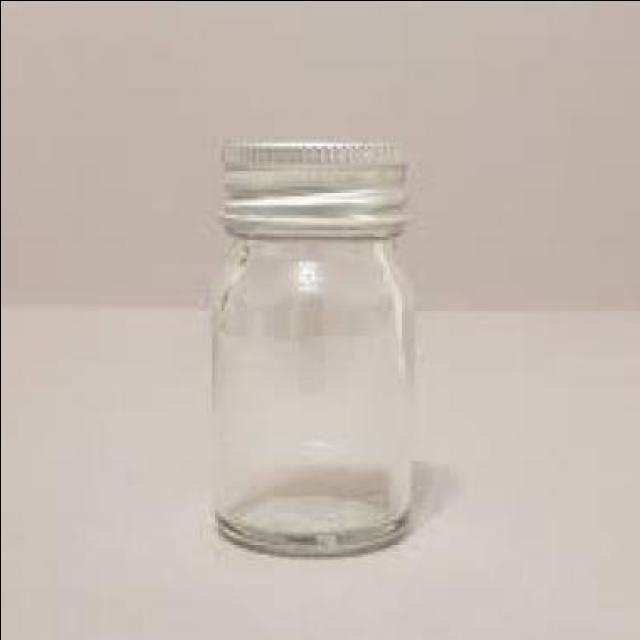kaca: (207, 232, 408, 554)
